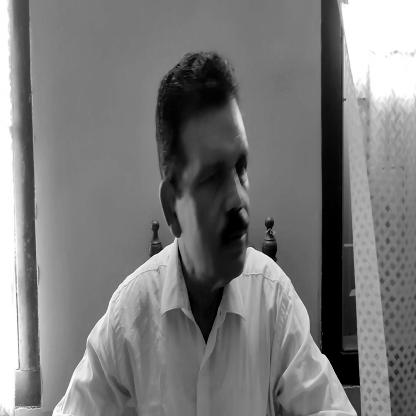Distracted: (158, 47, 256, 287)
